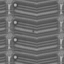dust: (31, 30, 35, 32)
